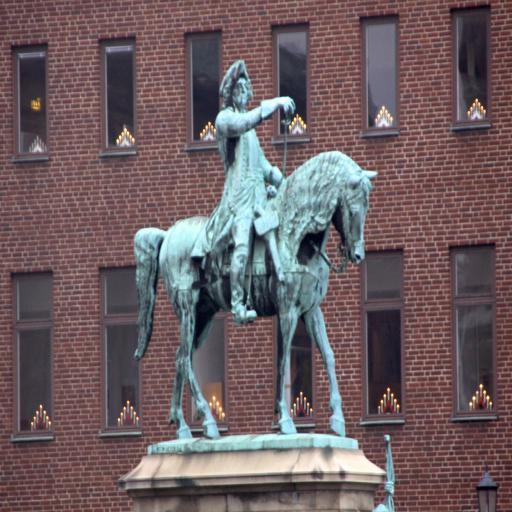horse: (134, 148, 378, 440)
